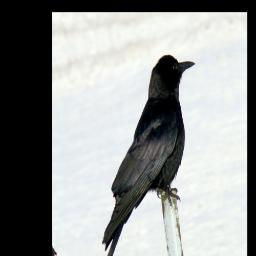Crow: (78, 47, 220, 256)
